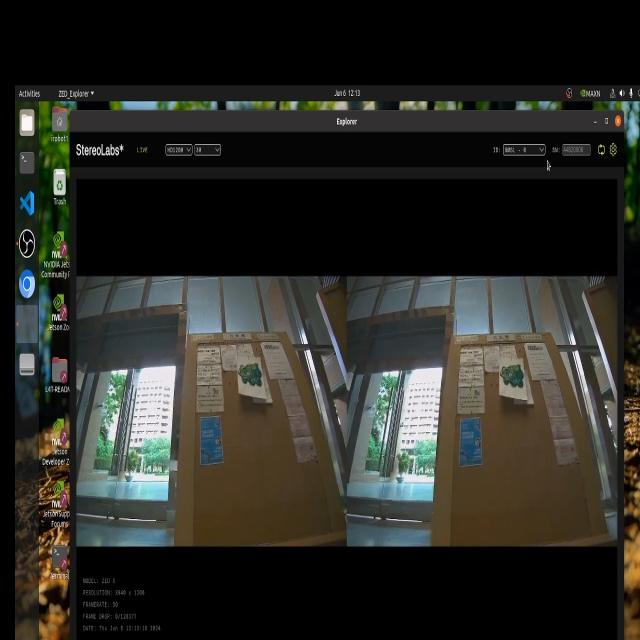green: (497, 357, 523, 395), (239, 355, 263, 390)
